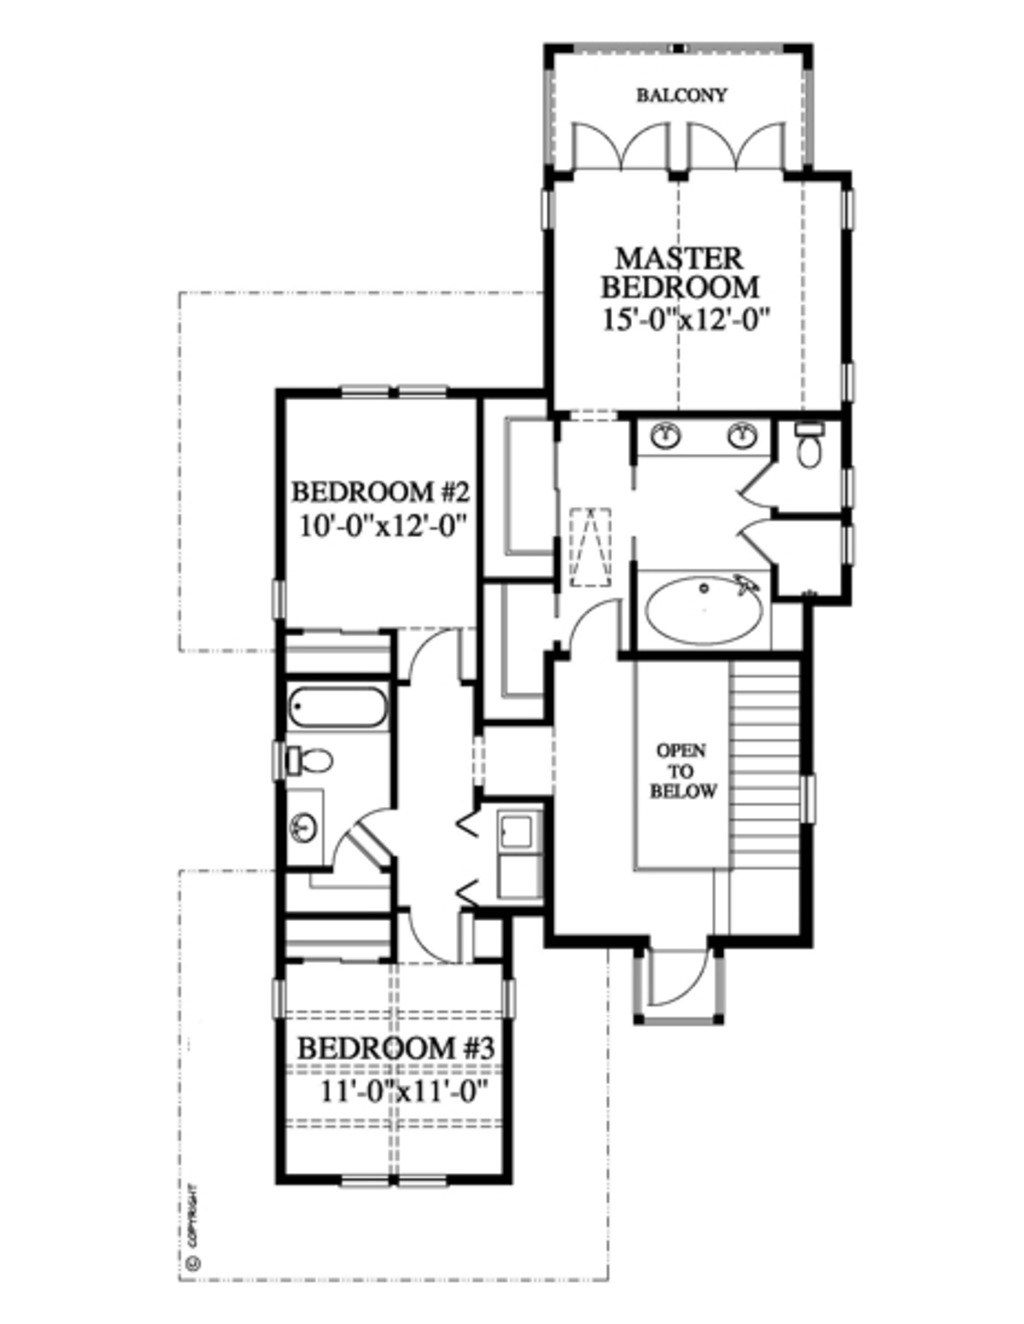door: (679, 121, 793, 179), (568, 121, 676, 176), (565, 587, 625, 666), (401, 902, 470, 966), (406, 624, 470, 694), (644, 946, 708, 1011), (735, 522, 782, 579), (330, 838, 383, 881), (739, 459, 777, 518)
large_sink: (783, 414, 838, 477), (277, 746, 338, 783)
small_sink: (635, 422, 769, 460), (290, 787, 328, 870)
stairs: (722, 646, 807, 939)
tub: (641, 571, 770, 659), (286, 676, 390, 739)
windows: (332, 1163, 455, 1191), (332, 376, 446, 402)
